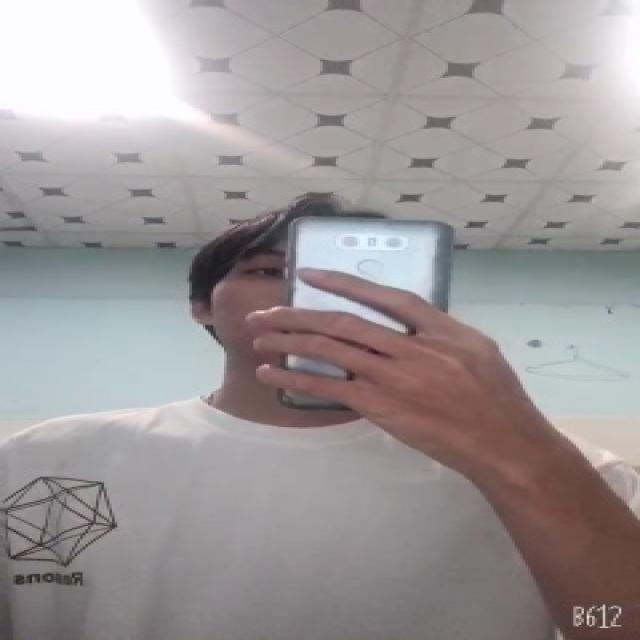Phone: (270, 214, 457, 413)
